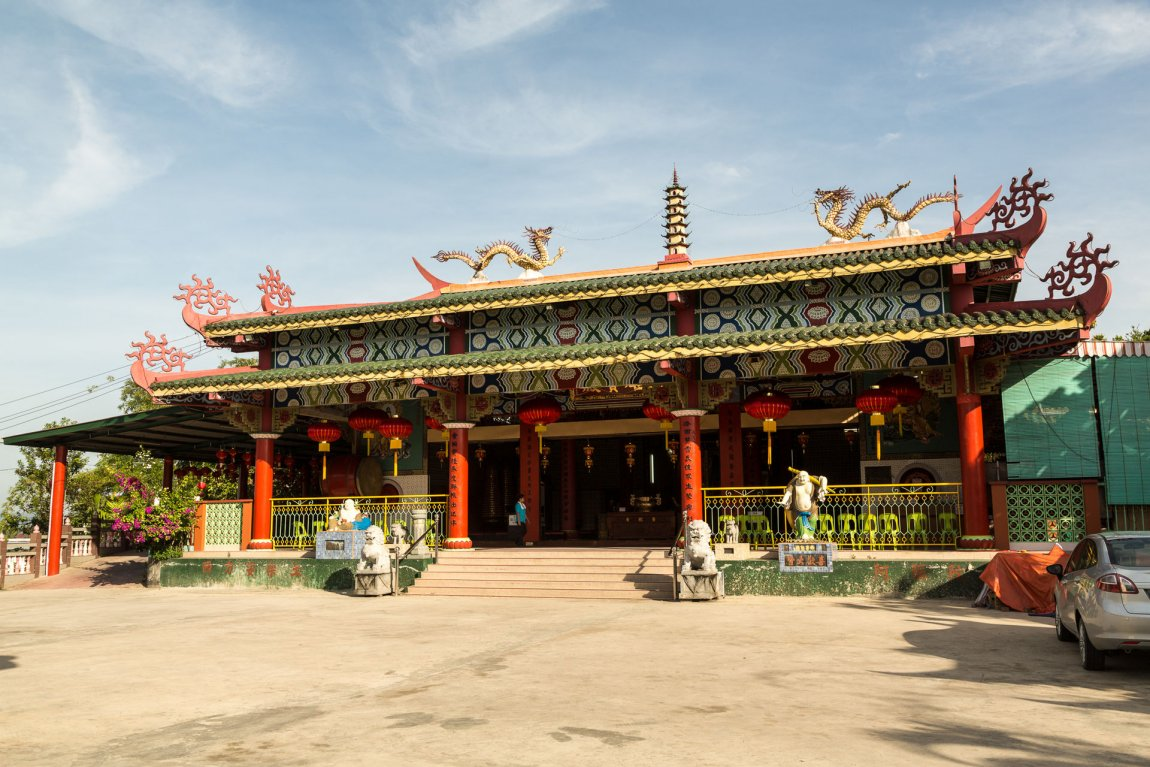Buddhist Temple: (163, 164, 1086, 534)
